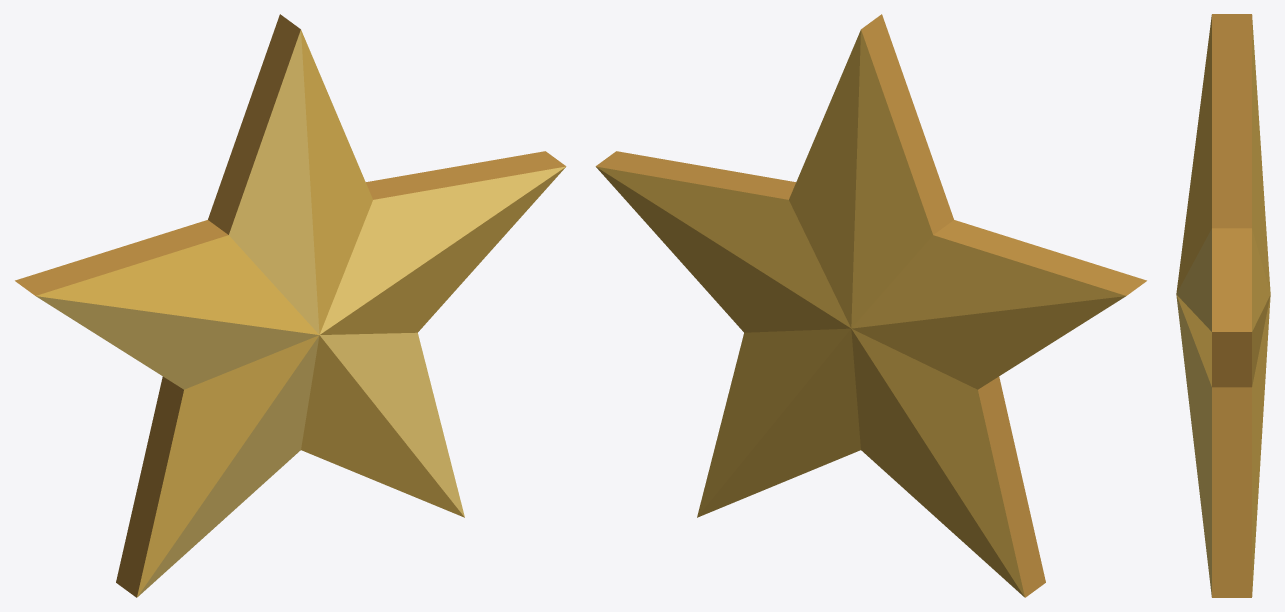
File: christmas_star_gold.glb
3 views of the same model, side by side, from view 1: azimuth 30°, elevation 25°; view 2: azimuth 150°, elevation 25°; view 3: azimuth 270°, elevation 25° (orthographic). The views are drawn at different scales.
Visible parts, largest first — view 1: Christmas_Star_Solid_Faceted_Gold; view 2: Christmas_Star_Solid_Faceted_Gold; view 3: Christmas_Star_Solid_Faceted_Gold.
Boxes of the visible parts, x1,y1,x2,y2 form: Christmas_Star_Solid_Faceted_Gold: [15, 14, 566, 597]; Christmas_Star_Solid_Faceted_Gold: [595, 14, 1146, 597]; Christmas_Star_Solid_Faceted_Gold: [1176, 14, 1270, 597].
Bounding box in the file's own units: 0.4185 × 0.398 × 0.0671.
